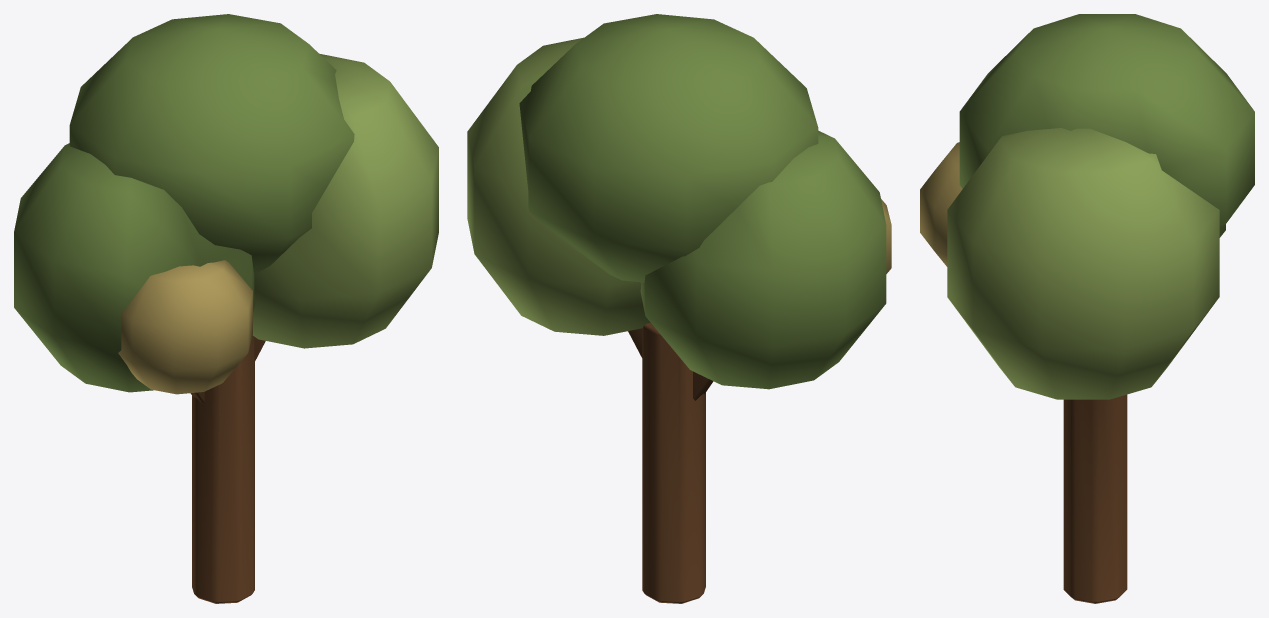
The model's file is oak.glb.
3 renders of one model, left to right at view 1: azimuth 30°, elevation 25°; view 2: azimuth 150°, elevation 25°; view 3: azimuth 270°, elevation 25°, orthographic.
Parts seen in each view (by area): view 1: oak; view 2: oak; view 3: oak.
Boxes of the visible parts, left/top/right/bottom form: oak: left=14, top=14, right=438, bottom=603; oak: left=467, top=14, right=891, bottom=603; oak: left=920, top=14, right=1254, bottom=603.
Bounding box in the file's own units: 3.69 × 5.2 × 2.8.
